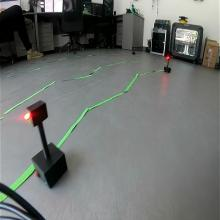red: (22, 102, 48, 128)
